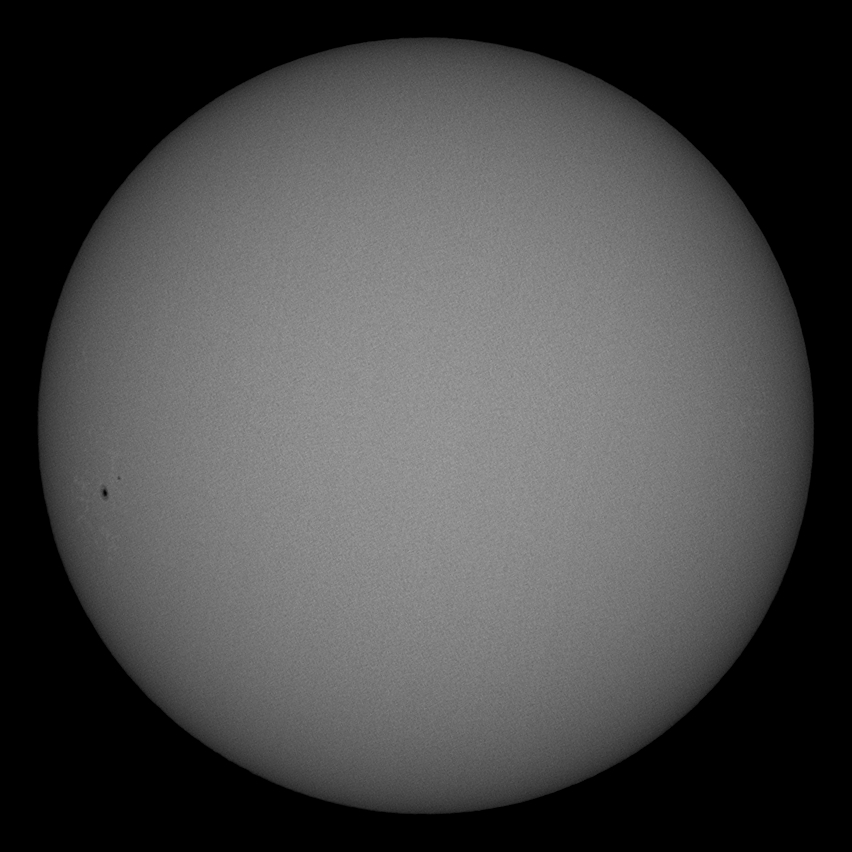sunspot: (96, 474, 124, 501)
